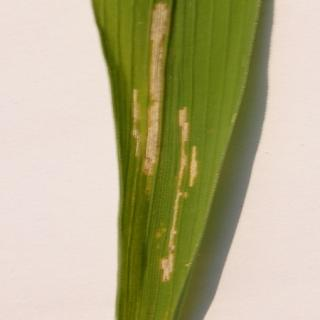Hawar-Daun: (152, 93, 216, 287), (109, 2, 170, 176)
